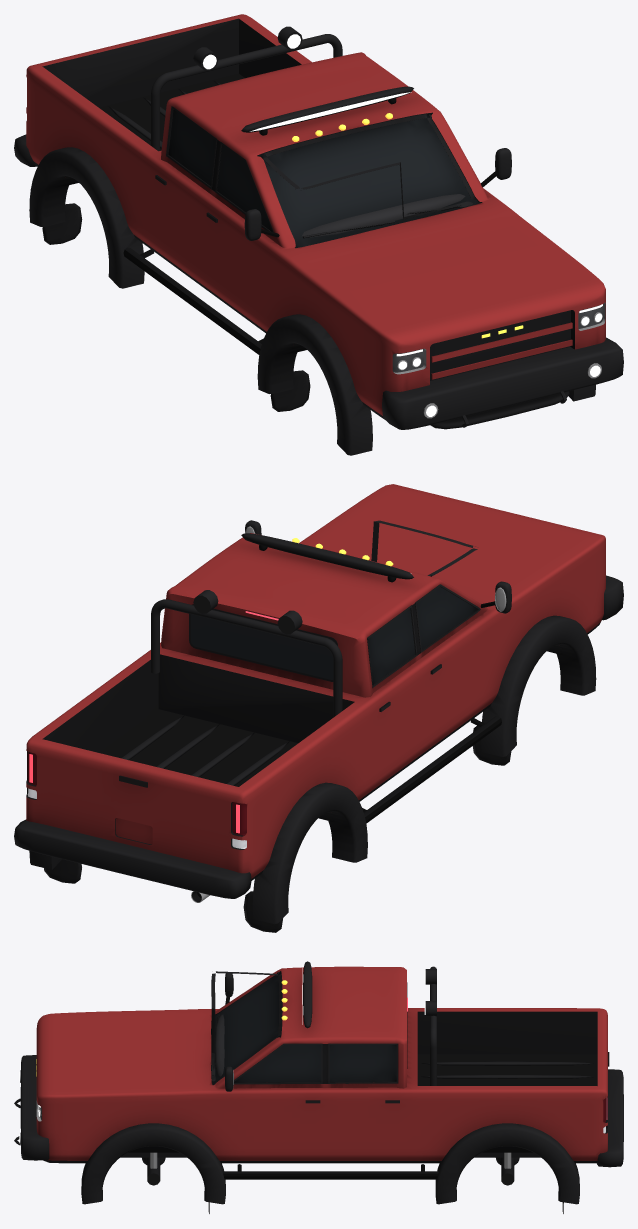
Rendered from juggernaut.m.glb.
3 views of the same model, one above another, from view 1: azimuth 30°, elevation 25°; view 2: azimuth 150°, elevation 25°; view 3: azimuth 270°, elevation 25° (orthographic). The views are drawn at different scales.
Visible parts, largest first — view 1: paint_lodm, trim_lodm, window_lodm, grille_lodm, interior_lodm, lens_lodm, head_lodm, chrome_lodm; view 2: paint_lodm, trim_lodm, glass_lodm, window_lodm; view 3: paint_lodm, trim_lodm, window_lodm, interior_lodm, chrome_lodm.
Part boxes in pixels (x1=…): paint_lodm: x1=26, y1=14, x2=605, y2=415; trim_lodm: x1=14, y1=18, x2=623, y2=455; window_lodm: x1=168, y1=109, x2=481, y2=248; grille_lodm: x1=430, y1=310, x2=570, y2=380; interior_lodm: x1=302, y1=194, x2=465, y2=237; lens_lodm: x1=203, y1=34, x2=602, y2=416; head_lodm: x1=392, y1=304, x2=603, y2=372; chrome_lodm: x1=244, y1=222, x2=605, y2=418; paint_lodm: x1=26, y1=484, x2=605, y2=878; trim_lodm: x1=14, y1=520, x2=623, y2=932; glass_lodm: x1=191, y1=614, x2=334, y2=679; window_lodm: x1=368, y1=586, x2=477, y2=684; paint_lodm: x1=36, y1=966, x2=607, y2=1160; trim_lodm: x1=14, y1=961, x2=623, y2=1213; window_lodm: x1=211, y1=971, x2=396, y2=1085; interior_lodm: x1=215, y1=1014, x2=224, y2=1076; chrome_lodm: x1=20, y1=975, x2=511, y2=1168.
Size of what is drawn, in the model's own units: 2.26 by 1.97 by 5.82.
